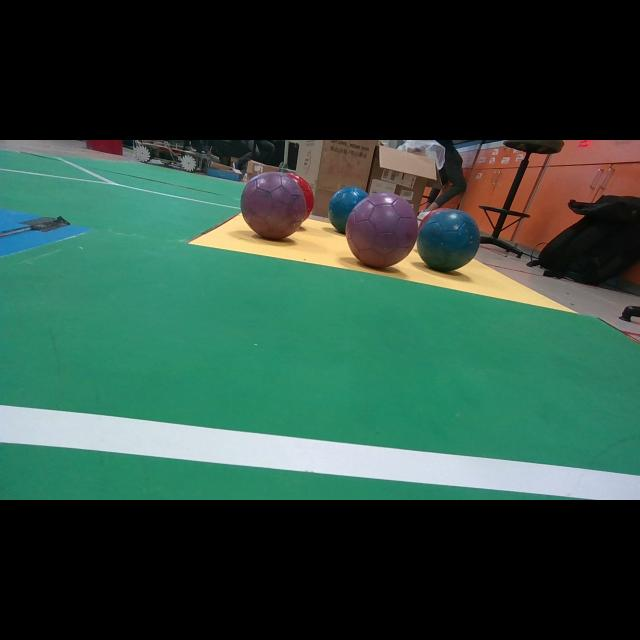B: (418, 209, 480, 271), (329, 186, 368, 233)
P: (345, 192, 418, 269), (241, 172, 305, 239)
R: (286, 172, 314, 219)
